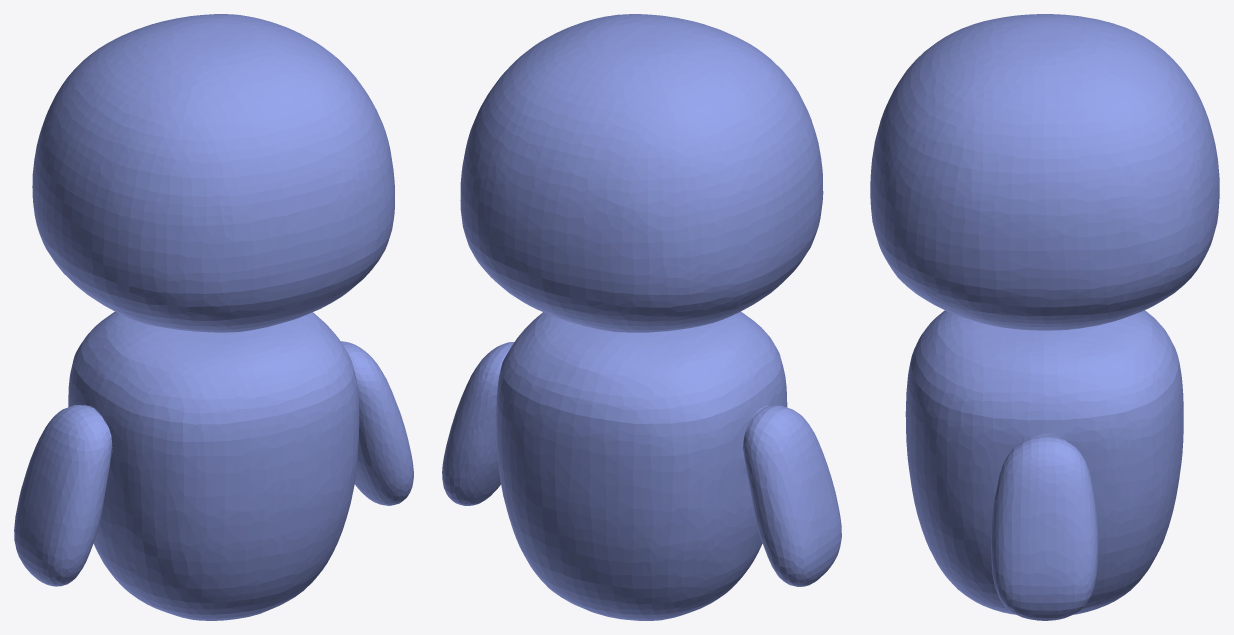
File: robot.glb
The picture shows the model from 3 angles, left to right: view 1: azimuth 30°, elevation 25°; view 2: azimuth 150°, elevation 25°; view 3: azimuth 270°, elevation 25°; orthographic projection.
Visible parts, largest first — view 1: world; view 2: world; view 3: world.
Boxes of the visible parts, x1,y1,x2,y2 form: world: (14,14,413,620); world: (442,14,841,620); world: (870,14,1219,620).
Size of the model in its own units: 0.6825 by 0.9999 by 0.5591.
